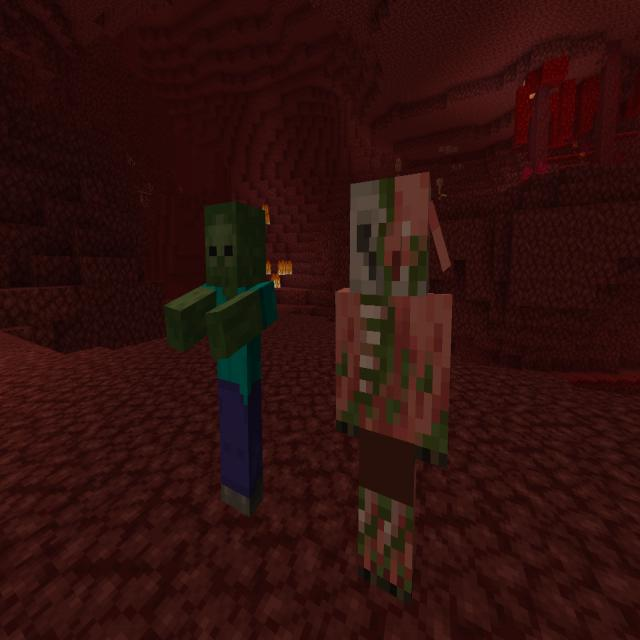Zombified Piglin: (334, 174, 452, 595)
